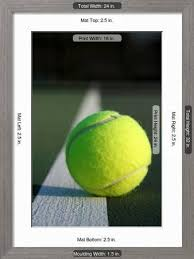tennis_ball: (63, 109, 154, 198)
